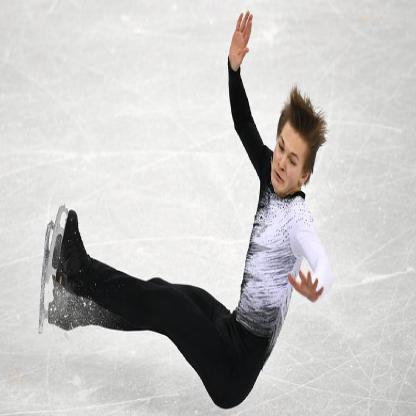Fall_Down: (49, 11, 332, 411)
